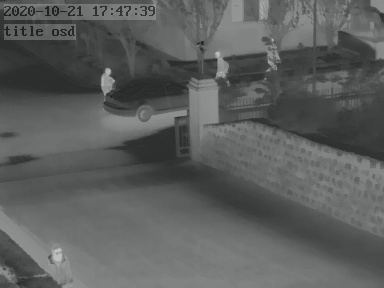person: (40, 242, 74, 288), (214, 48, 228, 84), (99, 65, 113, 97)
vehicle: (103, 77, 186, 120)
